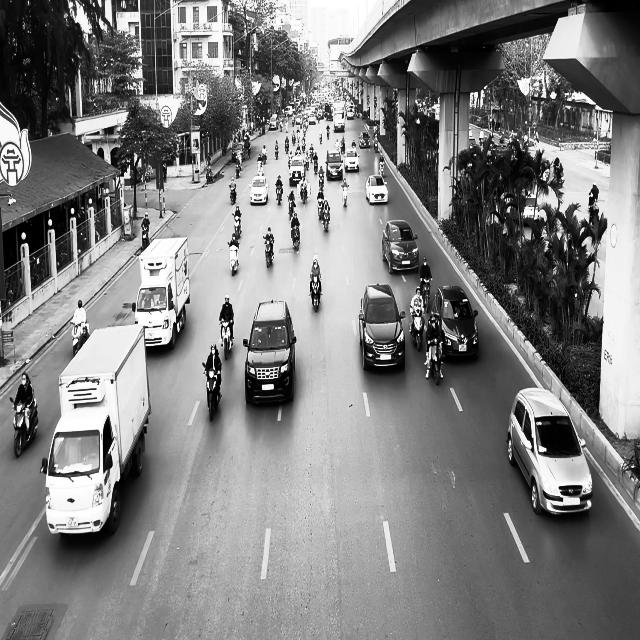car: (506, 386, 593, 516), (243, 299, 296, 405), (358, 283, 406, 371), (431, 284, 479, 360), (382, 219, 418, 274), (365, 174, 388, 204), (250, 175, 268, 205), (288, 156, 306, 185), (326, 150, 342, 180), (344, 148, 359, 171), (359, 131, 370, 148)
motorbike: (9, 394, 38, 458), (202, 361, 222, 421), (426, 333, 444, 385), (409, 310, 425, 351), (219, 318, 233, 360), (308, 272, 322, 312), (419, 277, 432, 312), (227, 240, 239, 276), (262, 235, 274, 267), (290, 224, 300, 252), (232, 214, 241, 242), (321, 207, 330, 232), (141, 222, 149, 250), (275, 184, 283, 204), (229, 183, 236, 205), (342, 184, 348, 207), (206, 165, 213, 183), (379, 159, 384, 178)
truck: (40, 323, 151, 536), (132, 236, 190, 350)
